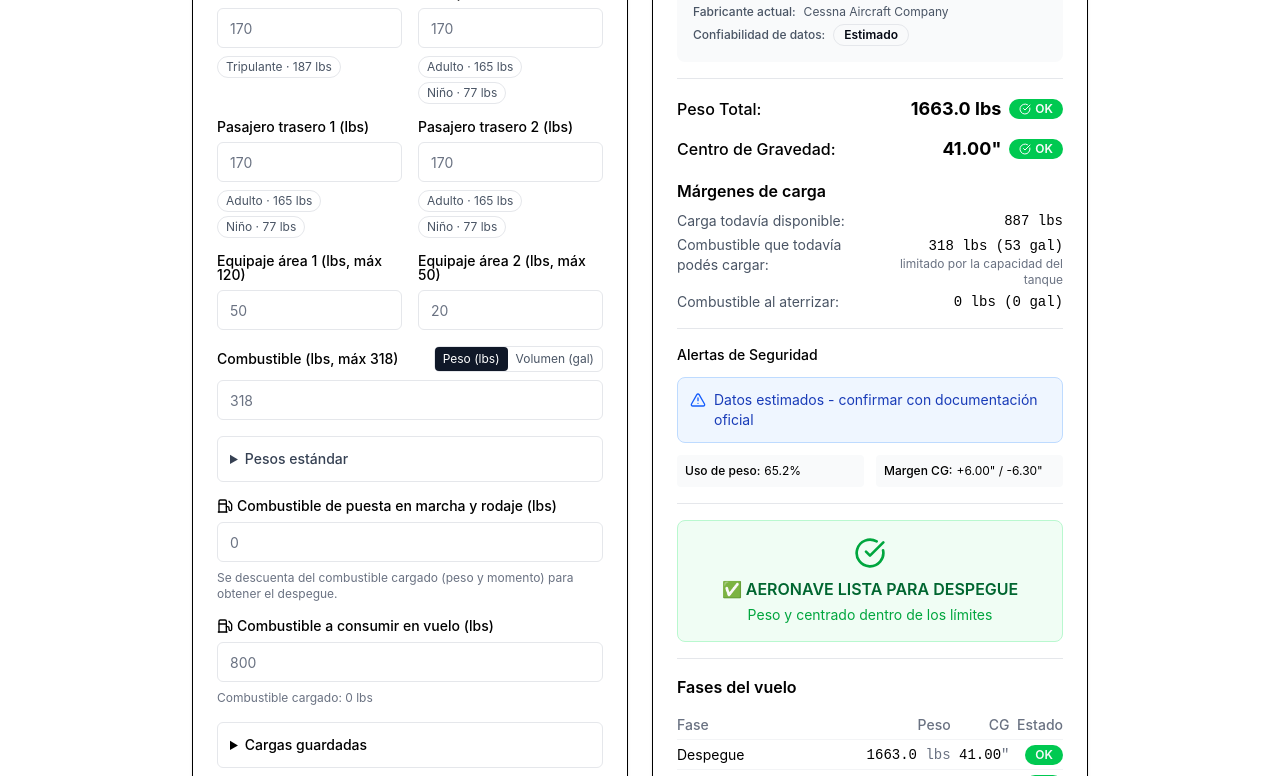
App (integración) › shows the payload and the fuel that can still be loaded
(page scrolled)
In the number field labelled "Combustible (lbs, máx 318)": (410, 400) [217,380,603,420], type "118"
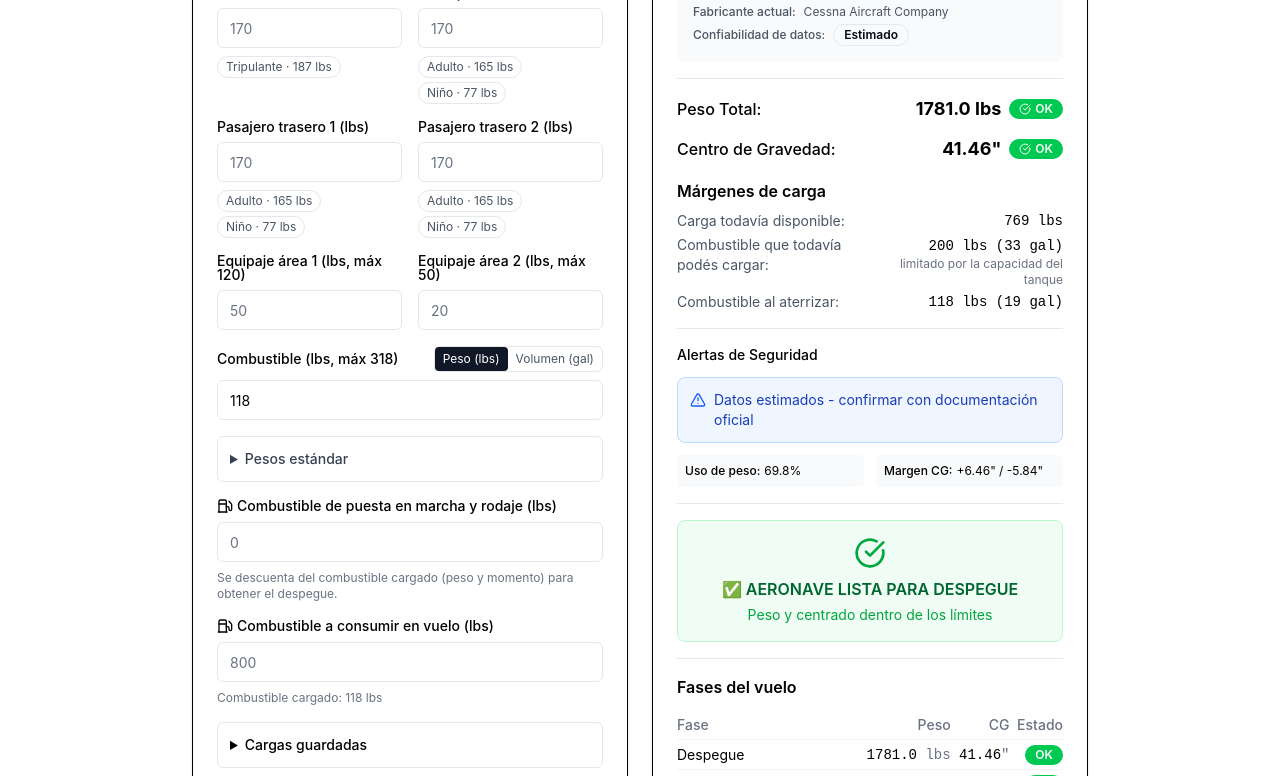
Expected: the element with test id "margin-extra-fuel" shows "capacidad del tanque", [900,256,1063,287]
Expected: the element with test id "margin-extra-fuel" shows "200 lbs (33 gal)", [929,238,1063,254]
